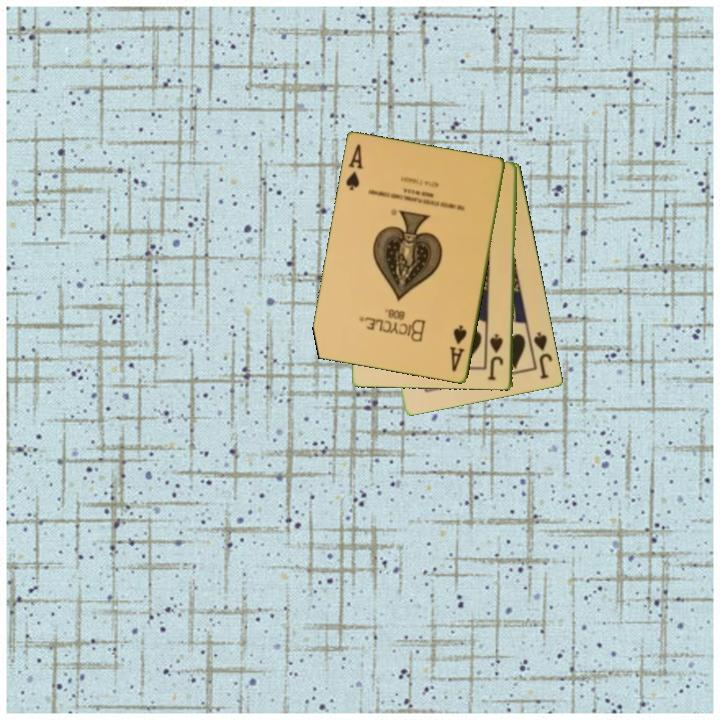As: (342, 141, 366, 194), (447, 322, 470, 375)
Js: (530, 328, 556, 382), (487, 331, 506, 383)
